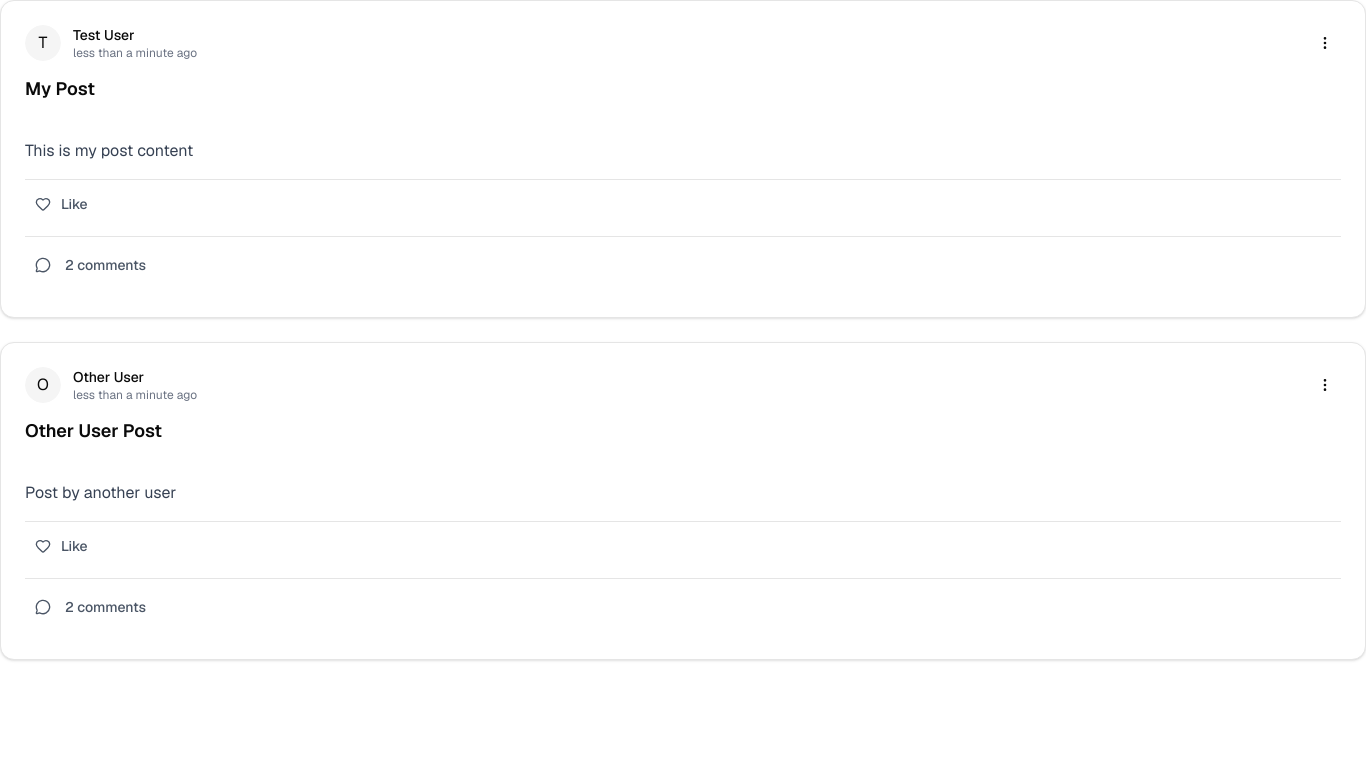
Test case: AlbumPostFeed › Dialog Interactions › opens delete dialog when delete is clicked
// Open dropdown for other user's post
Click the button with test id "post-dropdown-post-2" at (1325, 385), box left=1309, top=369, right=1341, bottom=401
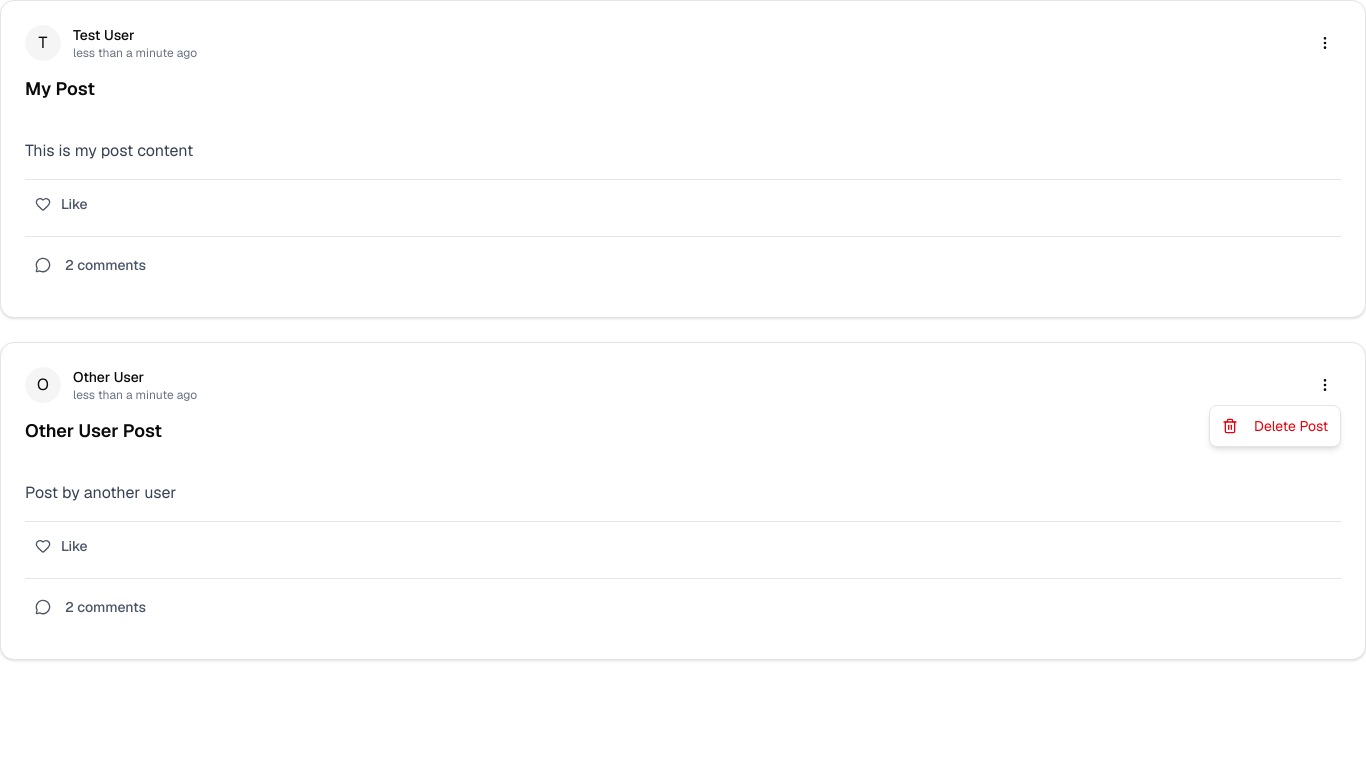
// Click delete
Click the menu item "Delete Post" at (1275, 426), box left=1222, top=417, right=1328, bottom=435
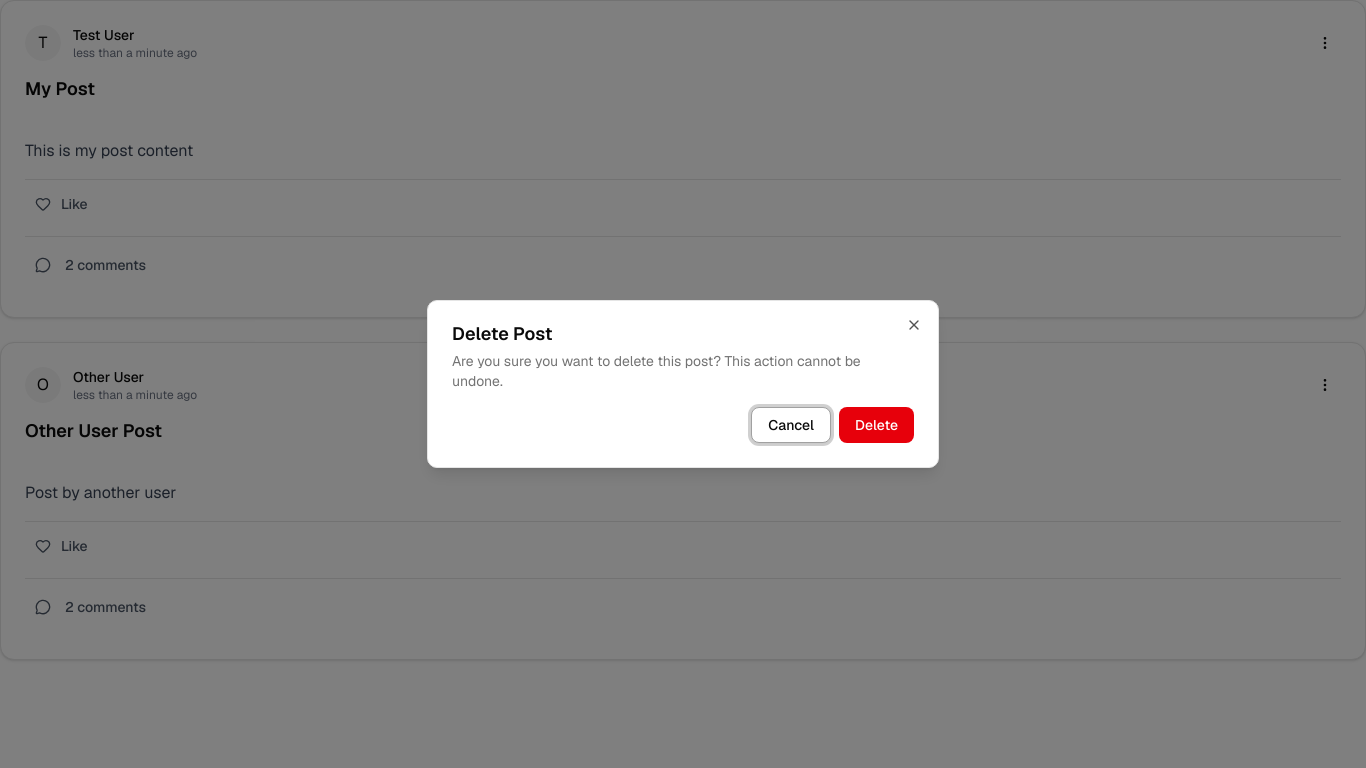
Result: the dialog is shown at left=427, top=300, right=939, bottom=468
Result: the text "Are you sure you want to delete this post" is shown at left=452, top=352, right=861, bottom=390
